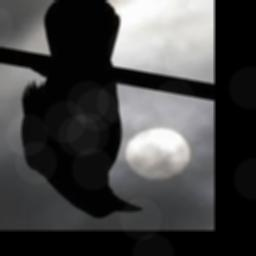Crow: (20, 0, 144, 219)
